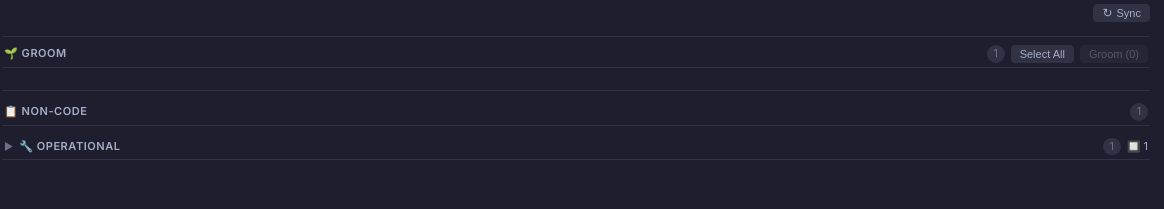
it: TaskList › Groom(N) button › includes a Backlog 🔧 Operational task in groomableTasks and renders a Groom checkbox
This screenshot has width=1164, height=209.
Step 1. Click the button with test id "type-card-header-operational" → (70, 146), box [2,134,1150,160]
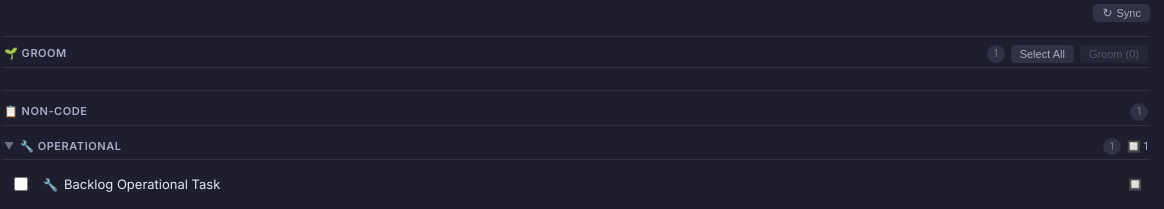
Expected: the checkbox named "Select Backlog Operational Task" is shown
Step 2. Click the checkbox named "Select Backlog Operational Task" → (21, 184), box [14,177,28,191]
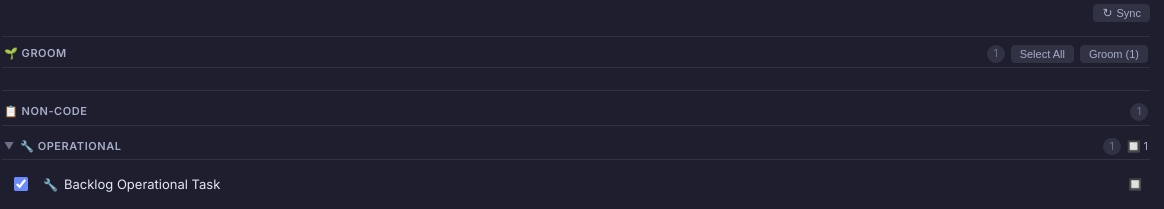
Expected: the button with test id "groom-btn" reads "Groom (1)", [1080,45,1148,63]
